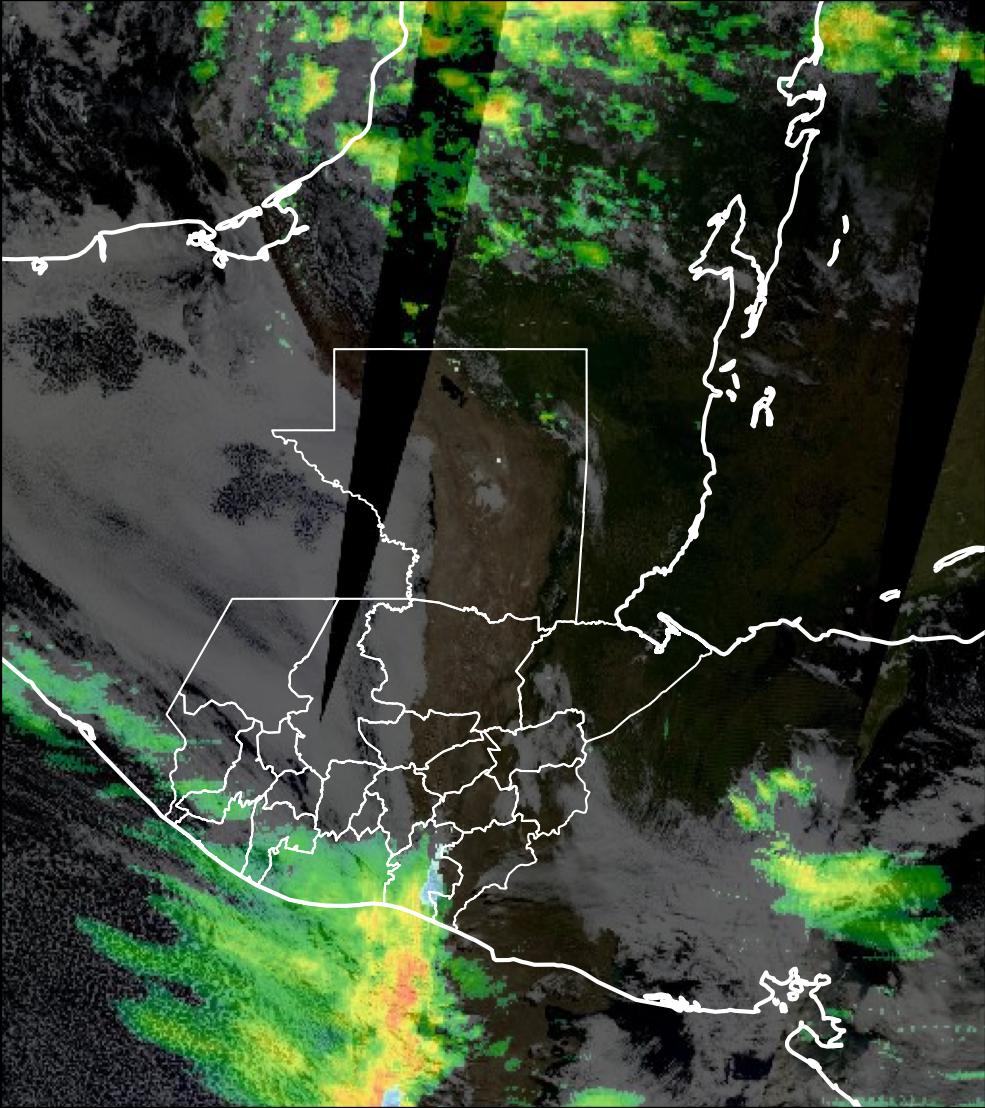precipitacion: (362, 939, 446, 1065)
